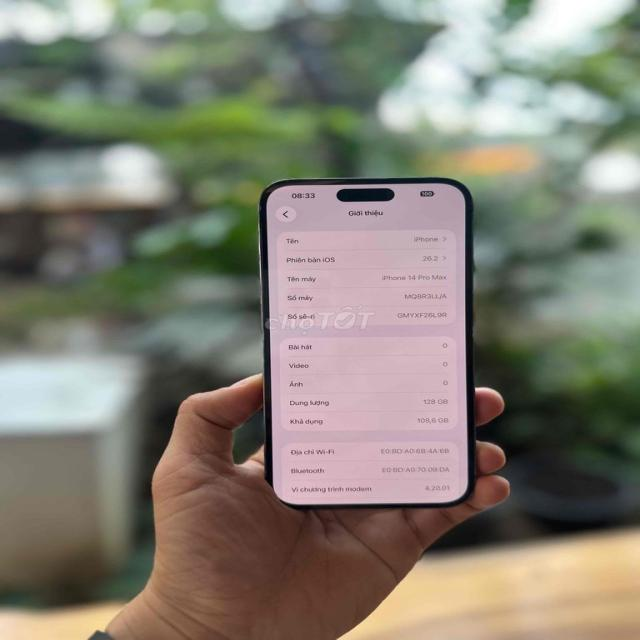gen_14: (251, 170, 487, 514)
